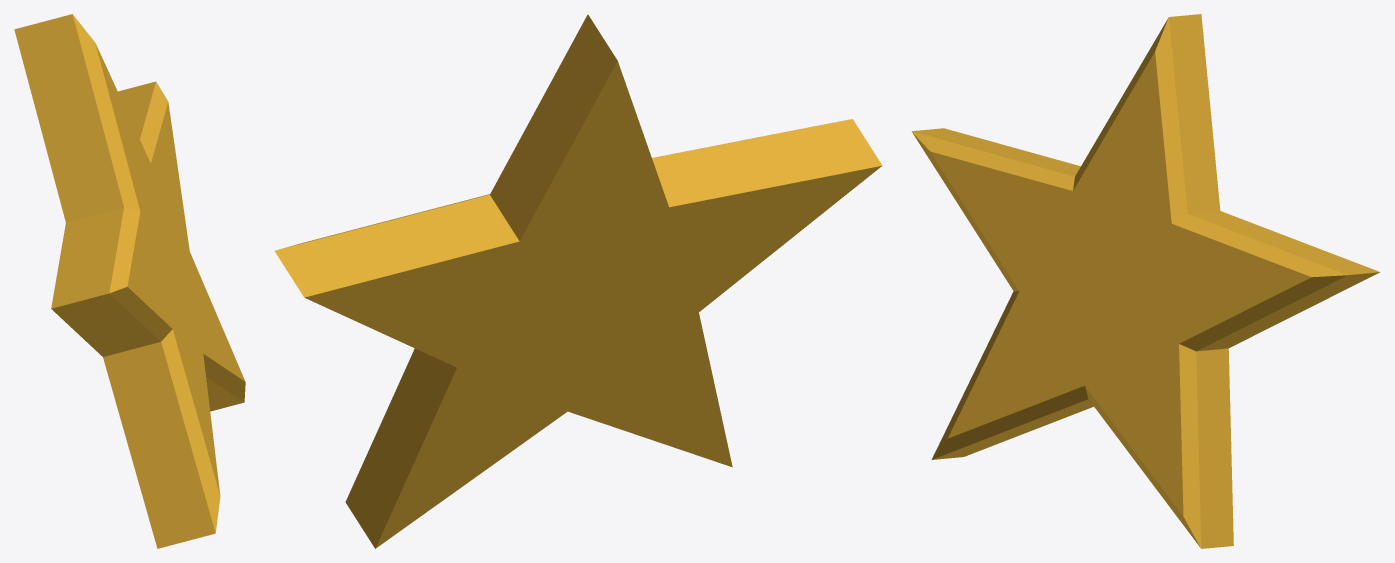
The model's file is star1.glb.
The picture shows the model from 3 angles, left to right: view 1: azimuth 30°, elevation 25°; view 2: azimuth 150°, elevation 25°; view 3: azimuth 270°, elevation 25°; orthographic projection. The views are drawn at different scales.
Visible parts, largest first — view 1: Circle; view 2: Circle; view 3: Circle.
Boxes of the visible parts, <box> form: Circle: <box>14,14,245,548</box>; Circle: <box>274,14,882,548</box>; Circle: <box>911,14,1380,548</box>.
Size of the model in its own units: 1.32 by 1.8 by 1.67.
